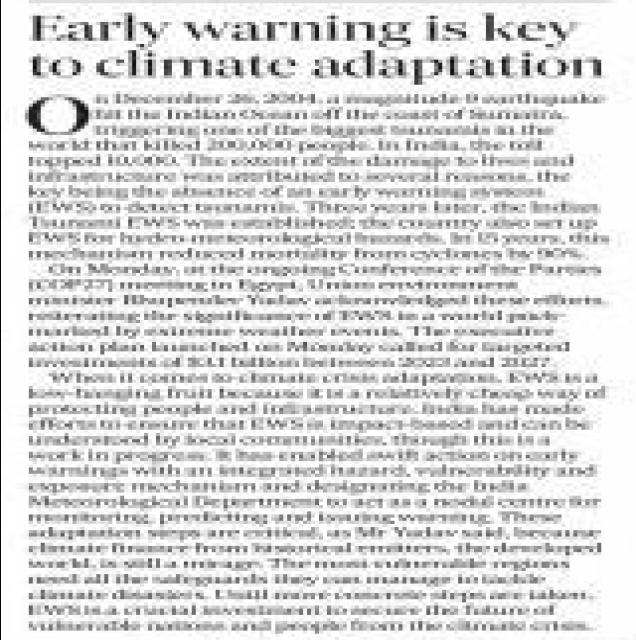paper: (1, 0, 635, 640)
